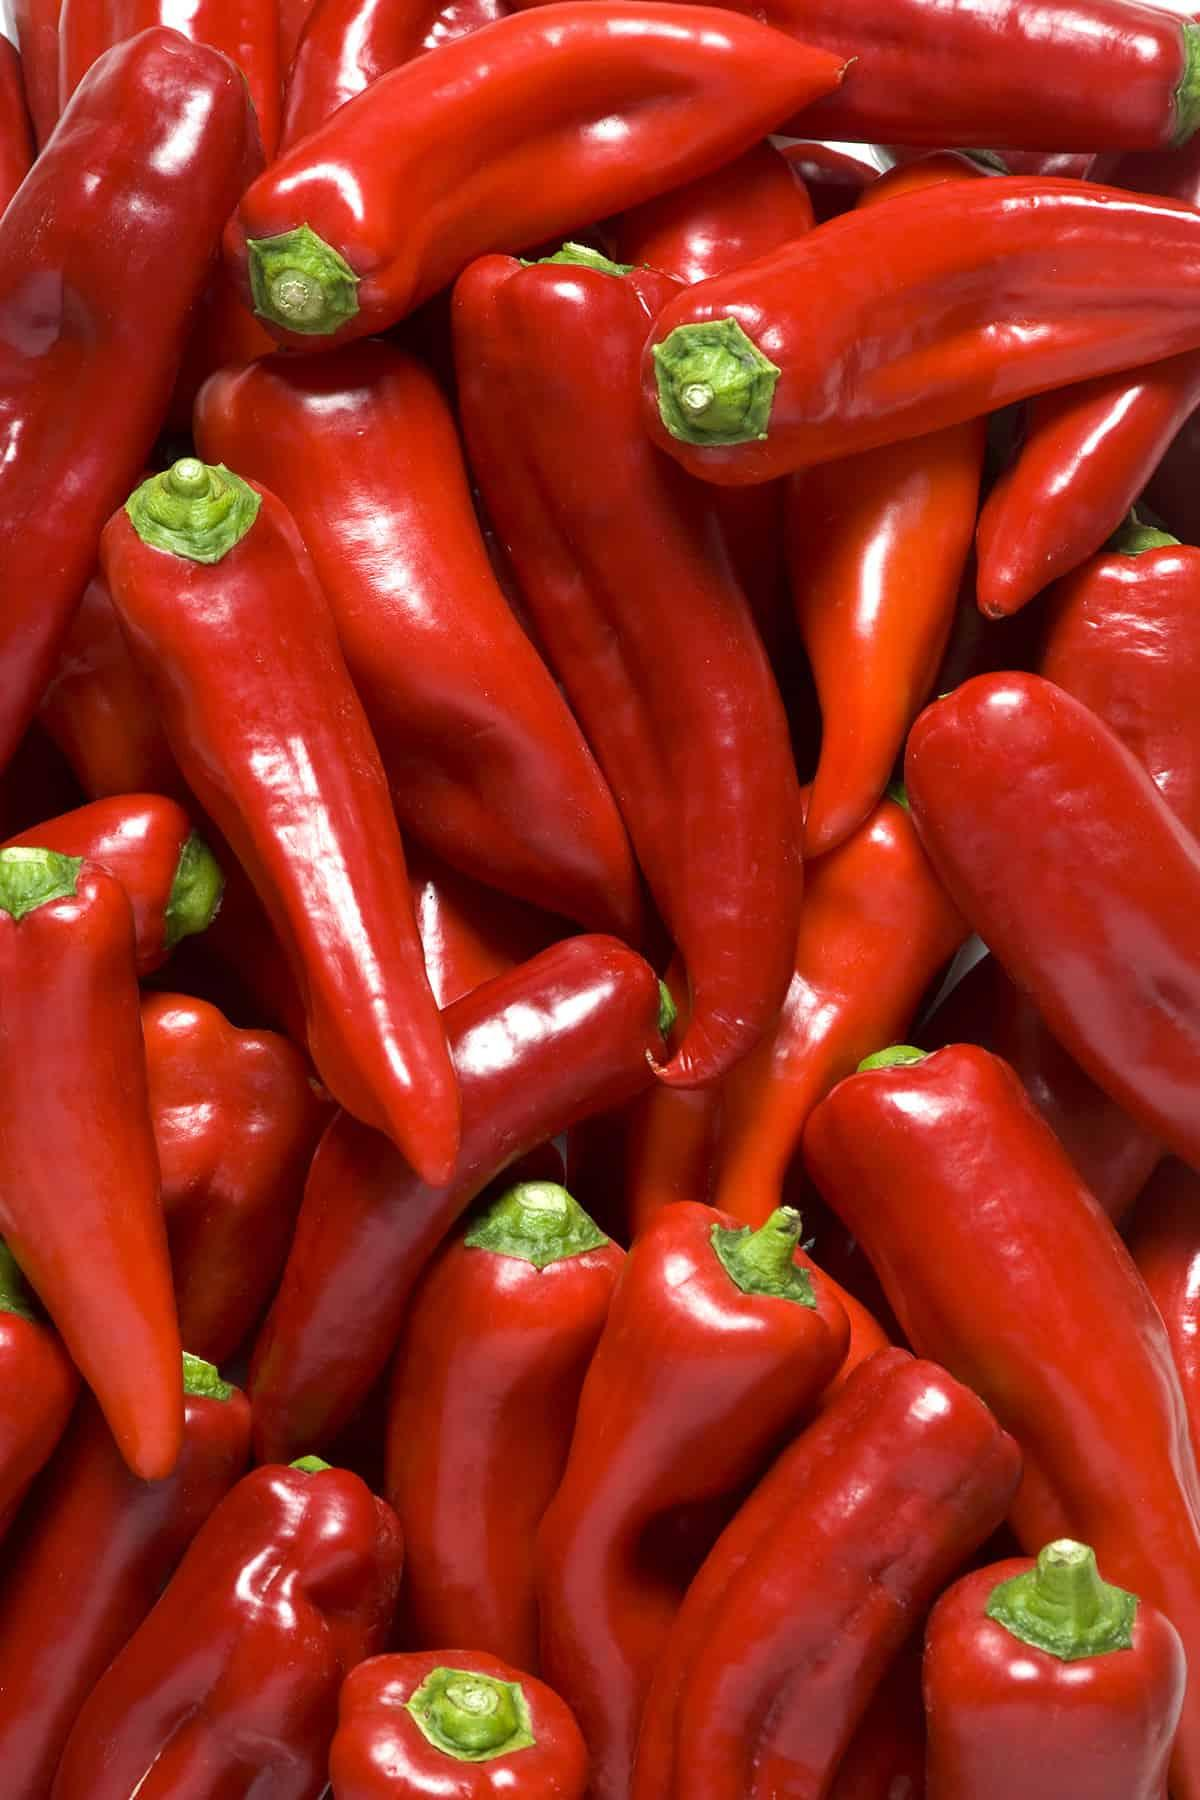paprika: (4, 1, 1196, 1795), (96, 453, 465, 1187), (220, 0, 854, 348), (919, 1535, 1188, 1797), (325, 1646, 589, 1797)
